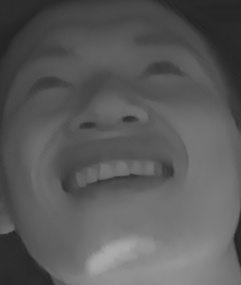eye: (25, 62, 74, 101), (135, 49, 184, 86)
mouth: (50, 136, 179, 206)
